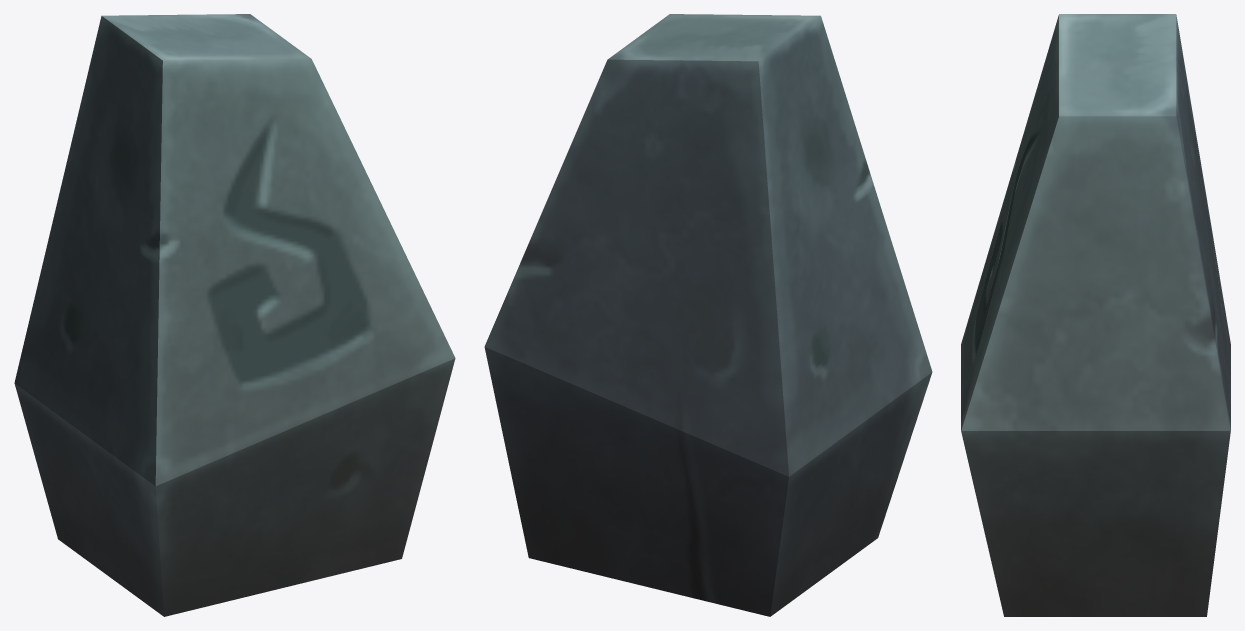
File: stone_rune01.fbx
3 views of the same model, side by side, from view 1: azimuth 30°, elevation 25°; view 2: azimuth 150°, elevation 25°; view 3: azimuth 270°, elevation 25° (orthographic). The views are drawn at different scales.
Visible parts, largest first — view 1: stone_rune01; view 2: stone_rune01; view 3: stone_rune01.
Part boxes in pixels (x1,y1,x2,y2): stone_rune01: (14,14,455,616); stone_rune01: (484,14,932,616); stone_rune01: (961,14,1230,616).
Size of the model in its own units: 82.04 by 138 by 66.89.
